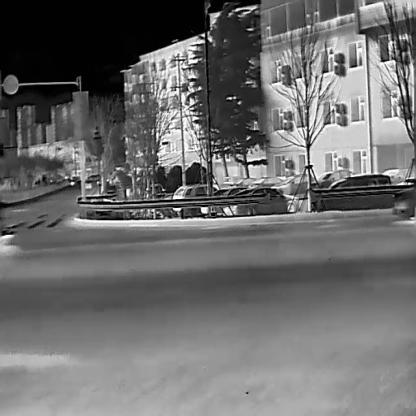car: (310, 173, 394, 212), (222, 186, 300, 215), (171, 184, 207, 209), (311, 168, 353, 189), (273, 172, 311, 194), (247, 176, 283, 188), (382, 168, 404, 184), (230, 175, 254, 187), (148, 182, 165, 197), (220, 176, 232, 188), (83, 178, 94, 188)
